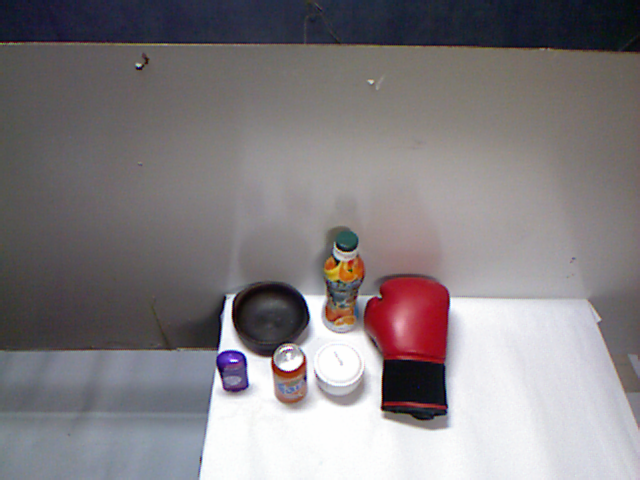aerosol: (403, 262, 457, 360)
cloroplano: (233, 250, 306, 368)
coca: (314, 269, 352, 345)
crema: (353, 291, 395, 343)
estuche: (306, 343, 400, 407)
pelota: (411, 358, 455, 405)
